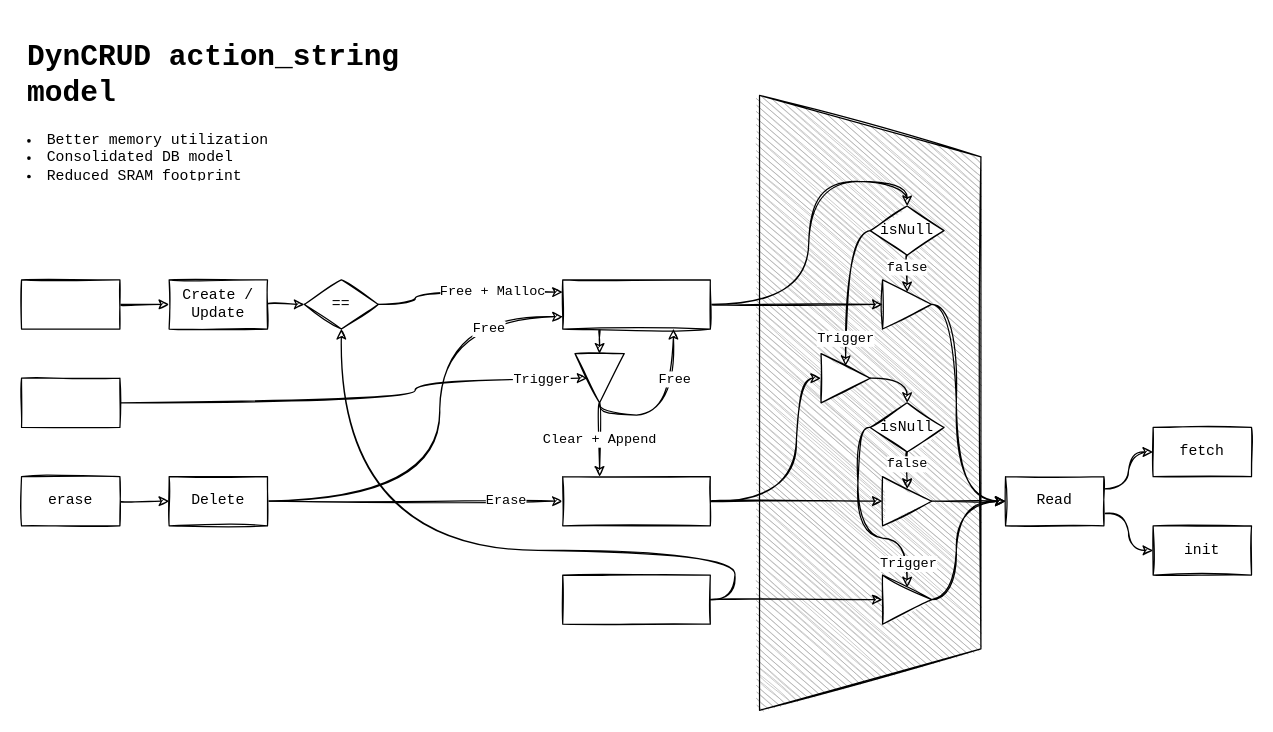
Some shapes in this 1273 by 732 pixel diagram are drawn without their labels. The box of each missing label's shape, as (x1, y1, x2, y2) in pixels:
action_string*: (561, 279, 710, 329)
config: (20, 279, 120, 329)
DEFAULT: (561, 574, 710, 624)
store: (20, 377, 120, 427)
toc >> NVM: (561, 475, 710, 526)
